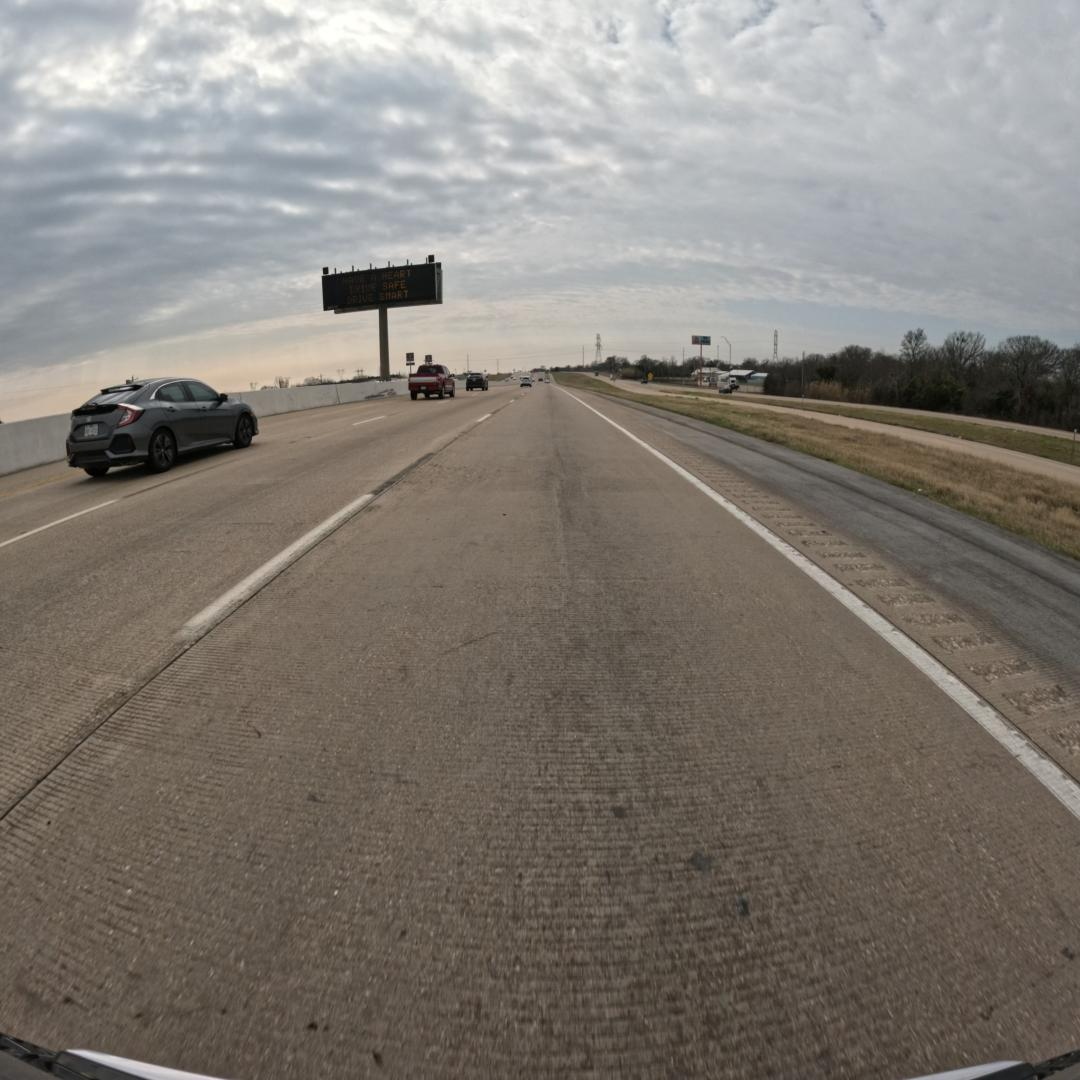lane0: (0, 386, 1080, 1076)
lane1: (0, 391, 512, 818)
